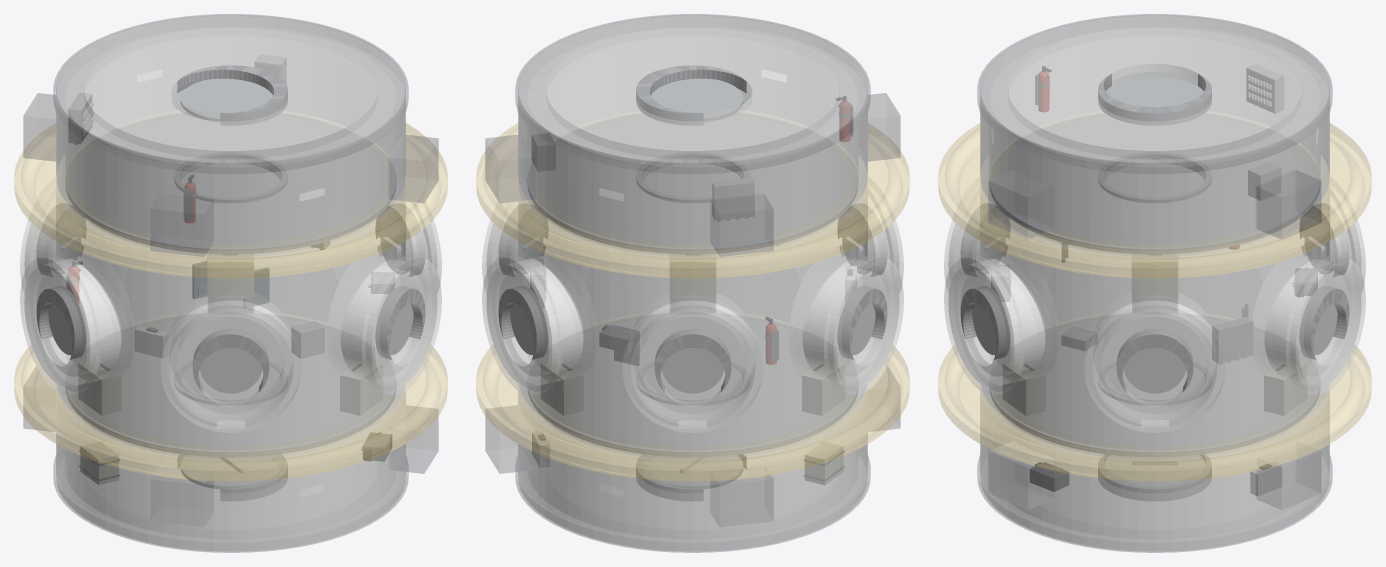
File: station09_spin_hub_combined.glb
3 views of the same model, side by side, from view 1: azimuth 30°, elevation 25°; view 2: azimuth 150°, elevation 25°; view 3: azimuth 270°, elevation 25° (orthographic).
Visible parts, largest first — view 1: pressure_vessel, ext_stator_upper, ext_spoke_ports, ext_bearings_sliprings, ext_rotor_drum, interface_19_bulkhead, interface_16_bulkhead, ext_stator_lower, ext_end_rings, ext_spin_motors, hatch_door_2, hatch_tunnel_2 (+28 smaller); view 2: pressure_vessel, ext_stator_upper, ext_spoke_ports, ext_bearings_sliprings, ext_rotor_drum, interface_19_bulkhead, interface_16_bulkhead, ext_stator_lower, ext_end_rings, ext_spin_motors, hatch_door_2, hatch_tunnel_2 (+26 smaller); view 3: pressure_vessel, ext_stator_upper, ext_spoke_ports, ext_bearings_sliprings, ext_rotor_drum, interface_19_bulkhead, interface_16_bulkhead, ext_end_rings, ext_stator_lower, ext_spin_motors, hatch_door_10, hatch_tunnel_2 (+28 smaller).
Part boxes in pixels (x1,y1,x2,y2): pressure_vessel: (24,16,437,550); ext_stator_upper: (56,15,405,251); ext_spoke_ports: (20,177,441,432); ext_bearings_sliprings: (14,123,447,481); ext_rotor_drum: (56,184,405,454); interface_19_bulkhead: (65,112,396,254); interface_16_bulkhead: (65,313,396,456); ext_stator_lower: (56,391,405,551); ext_end_rings: (53,14,408,552); ext_spin_motors: (23,93,438,527); hatch_door_2: (180,78,272,121); hatch_tunnel_2: (177,65,287,125); pressure_vessel: (486,16,899,550); ext_stator_upper: (518,15,867,251); ext_spoke_ports: (482,177,903,432); ext_bearings_sliprings: (476,123,909,481); ext_rotor_drum: (518,184,867,454); interface_19_bulkhead: (527,112,858,254); interface_16_bulkhead: (527,313,858,456); ext_stator_lower: (518,391,867,551); ext_end_rings: (515,14,870,552); ext_spin_motors: (485,93,900,527); hatch_door_2: (651,78,743,121); hatch_tunnel_2: (636,65,746,125); pressure_vessel: (948,16,1361,550); ext_stator_upper: (980,15,1329,251); ext_spoke_ports: (944,177,1365,432); ext_bearings_sliprings: (938,123,1371,481); ext_rotor_drum: (980,184,1329,454); interface_19_bulkhead: (989,113,1320,254); interface_16_bulkhead: (989,313,1320,456); ext_end_rings: (977,14,1332,552); ext_stator_lower: (980,391,1329,551); ext_spin_motors: (988,170,1321,509); hatch_door_10: (1106,163,1203,197); hatch_tunnel_2: (1098,74,1211,125).
Size of the model in its own units: 4.65 by 4.6 by 4.65.
